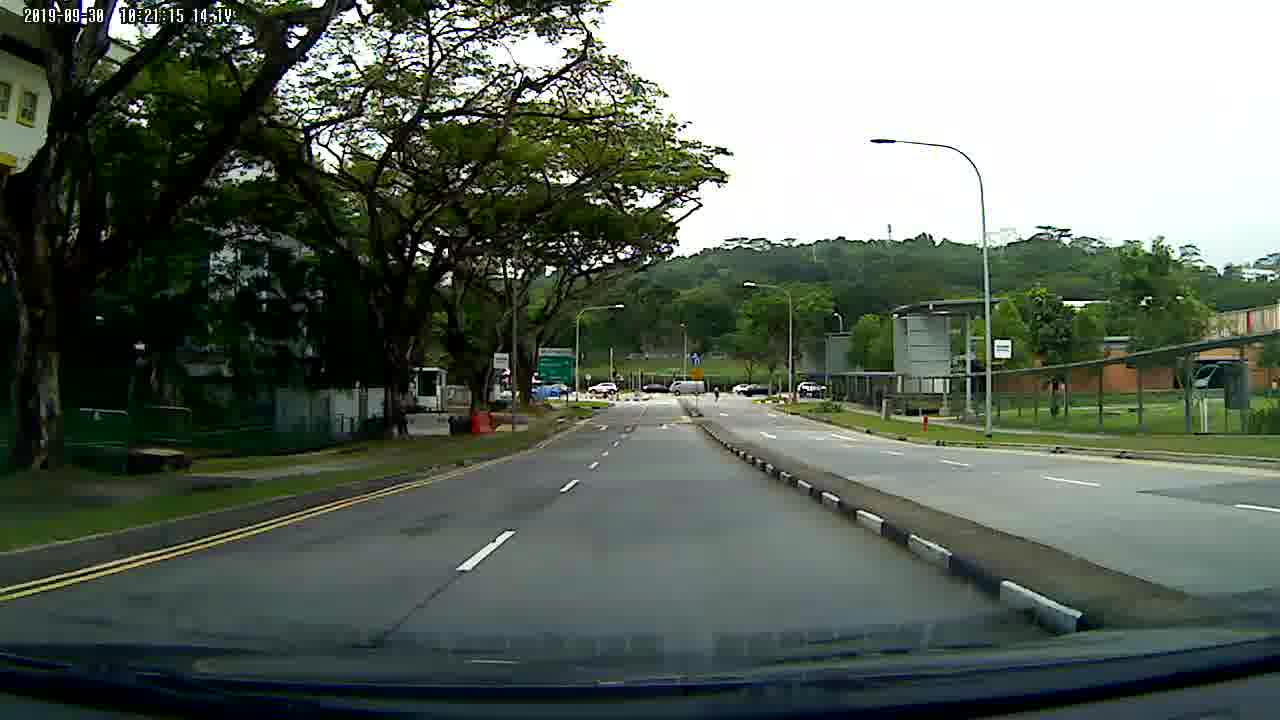car: (587, 381, 618, 398)
